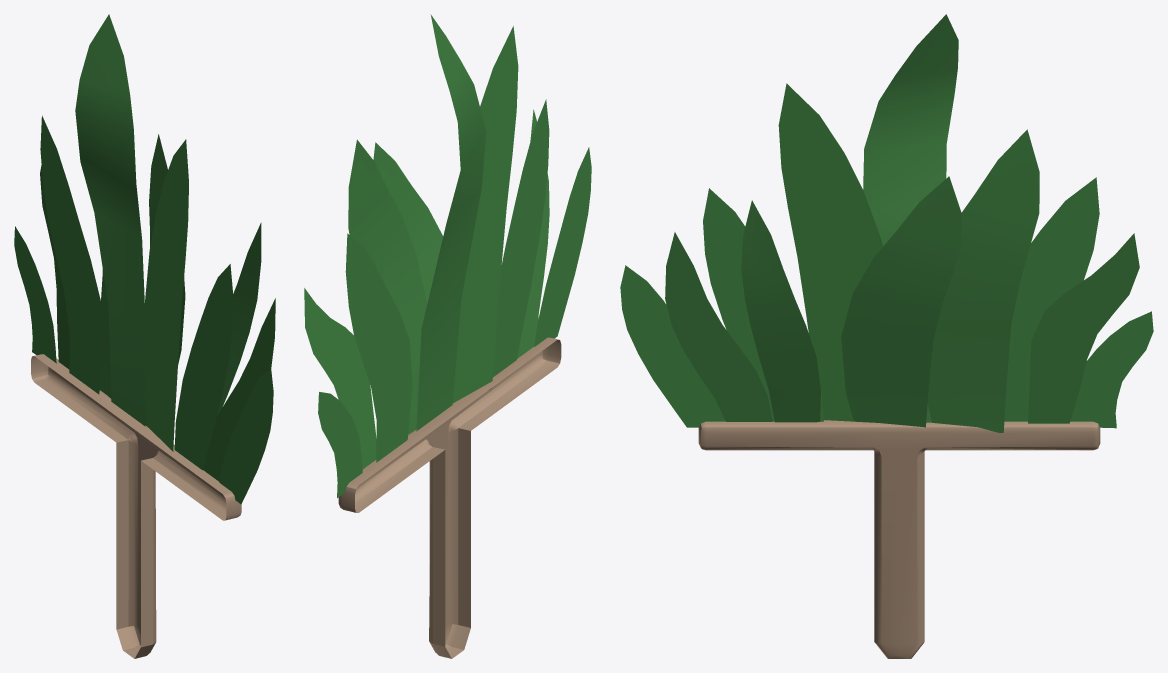
The model's file is M_flip_grassClump1.fbx.
The picture shows the model from 3 angles, left to right: view 1: azimuth 30°, elevation 25°; view 2: azimuth 150°, elevation 25°; view 3: azimuth 270°, elevation 25°; orthographic projection. The views are drawn at different scales.
Parts seen in each view (by area): view 1: grassBladeTall1, stick1, grassBladeMid1, grassBladeMid5, grassBladeMid2, grassBladeMid3, grassBladeShort2, grassBladeShort1, grassBladeShort4, grassBladeShort3, grassBladeMid6, grassBladeMid4; view 2: stick1, grassBladeTall1, grassBladeMid1, grassBladeMid5, grassBladeMid4, grassBladeMid2, grassBladeShort3, grassBladeMid3, grassBladeMid6, grassBladeShort4, grassBladeShort2; view 3: stick1, grassBladeMid4, grassBladeMid6, grassBladeMid1, grassBladeTall1, grassBladeShort1, grassBladeShort3, grassBladeMid5, grassBladeShort2, grassBladeMid3, grassBladeMid2, grassBladeShort4.
Part boxes in pixels (x1,y1,x2,y2): grassBladeTall1: [75, 14, 145, 426]; stick1: [31, 354, 241, 658]; grassBladeMid1: [145, 139, 188, 458]; grassBladeMid5: [40, 115, 103, 394]; grassBladeMid2: [174, 264, 233, 470]; grassBladeMid3: [219, 368, 273, 504]; grassBladeShort2: [203, 298, 275, 481]; grassBladeShort1: [217, 222, 261, 415]; grassBladeShort4: [14, 226, 56, 363]; grassBladeShort3: [40, 165, 69, 369]; grassBladeMid6: [145, 134, 185, 425]; grassBladeMid4: [99, 269, 111, 398]; stick1: [338, 337, 561, 658]; grassBladeTall1: [416, 14, 486, 431]; grassBladeMid1: [452, 26, 518, 403]; grassBladeMid5: [345, 233, 412, 462]; grassBladeMid4: [348, 139, 427, 434]; grassBladeMid2: [493, 99, 549, 377]; grassBladeShort3: [304, 288, 376, 468]; grassBladeMid3: [534, 147, 591, 346]; grassBladeMid6: [373, 142, 443, 303]; grassBladeShort4: [318, 392, 362, 498]; grassBladeShort2: [517, 109, 549, 358]; stick1: [698, 420, 1100, 658]; grassBladeMid4: [927, 129, 1039, 432]; grassBladeMid6: [841, 176, 961, 427]; grassBladeMid1: [778, 83, 882, 421]; grassBladeTall1: [863, 14, 958, 422]; grassBladeShort1: [741, 200, 820, 422]; grassBladeShort3: [1028, 233, 1139, 423]; grassBladeMid5: [1004, 177, 1099, 421]; grassBladeShort2: [665, 232, 772, 421]; grassBladeMid3: [620, 265, 725, 427]; grassBladeMid2: [703, 188, 823, 421]; grassBladeShort4: [1070, 311, 1153, 428].
Bounding box in the file's own units: 4.76 × 32.51 × 24.53.
